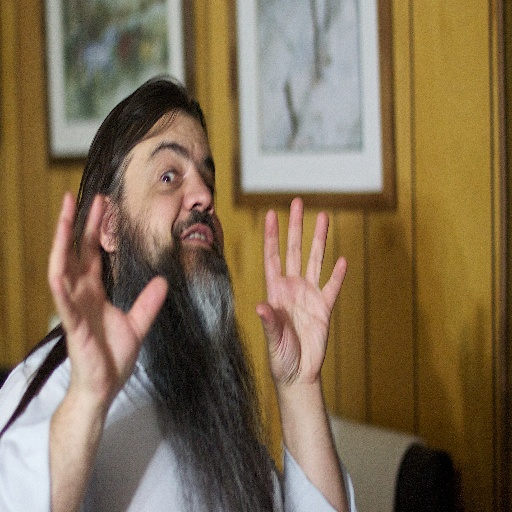hand: (46, 184, 170, 412), (257, 196, 356, 416)
